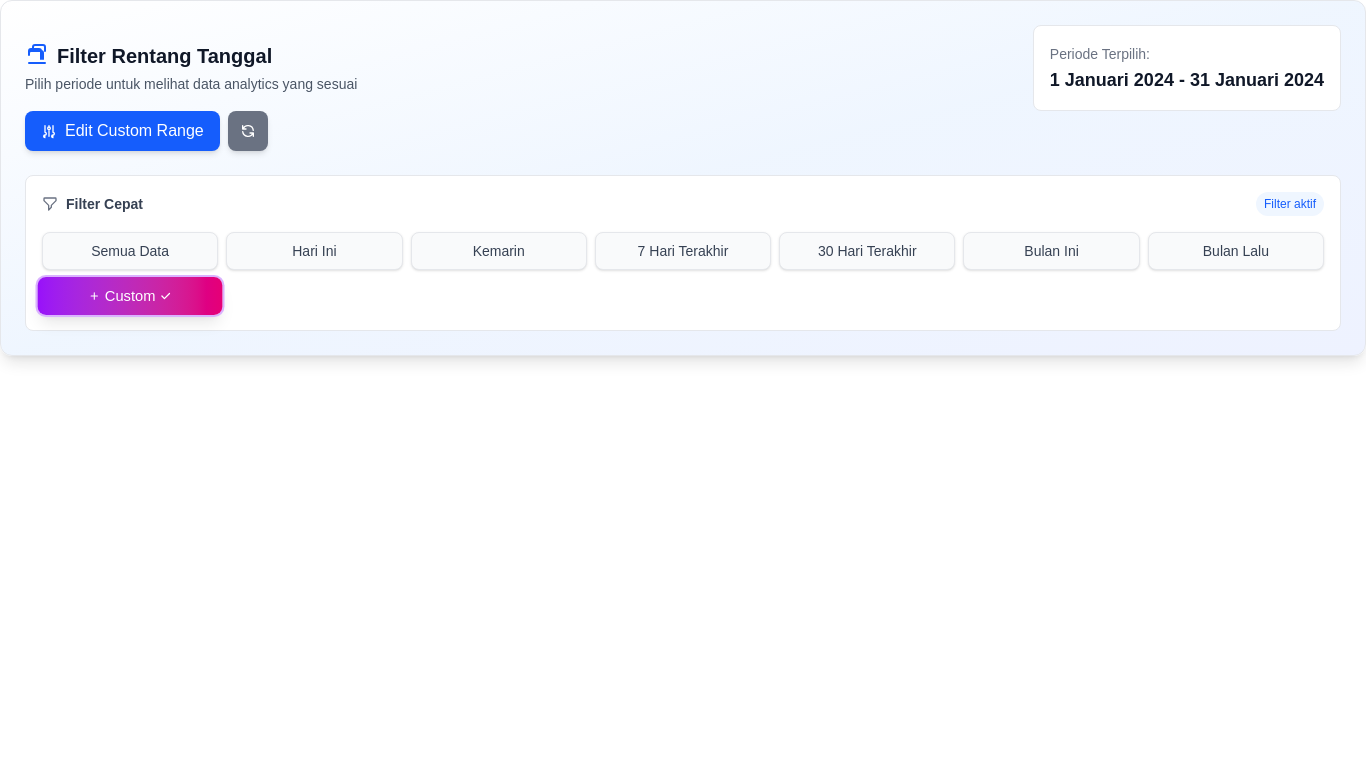
it: DateRangeFilter Component › shows preview when both dates are selected in custom picker
# Open modal
Click the button "Custom": (130, 296) [38, 277, 223, 315]
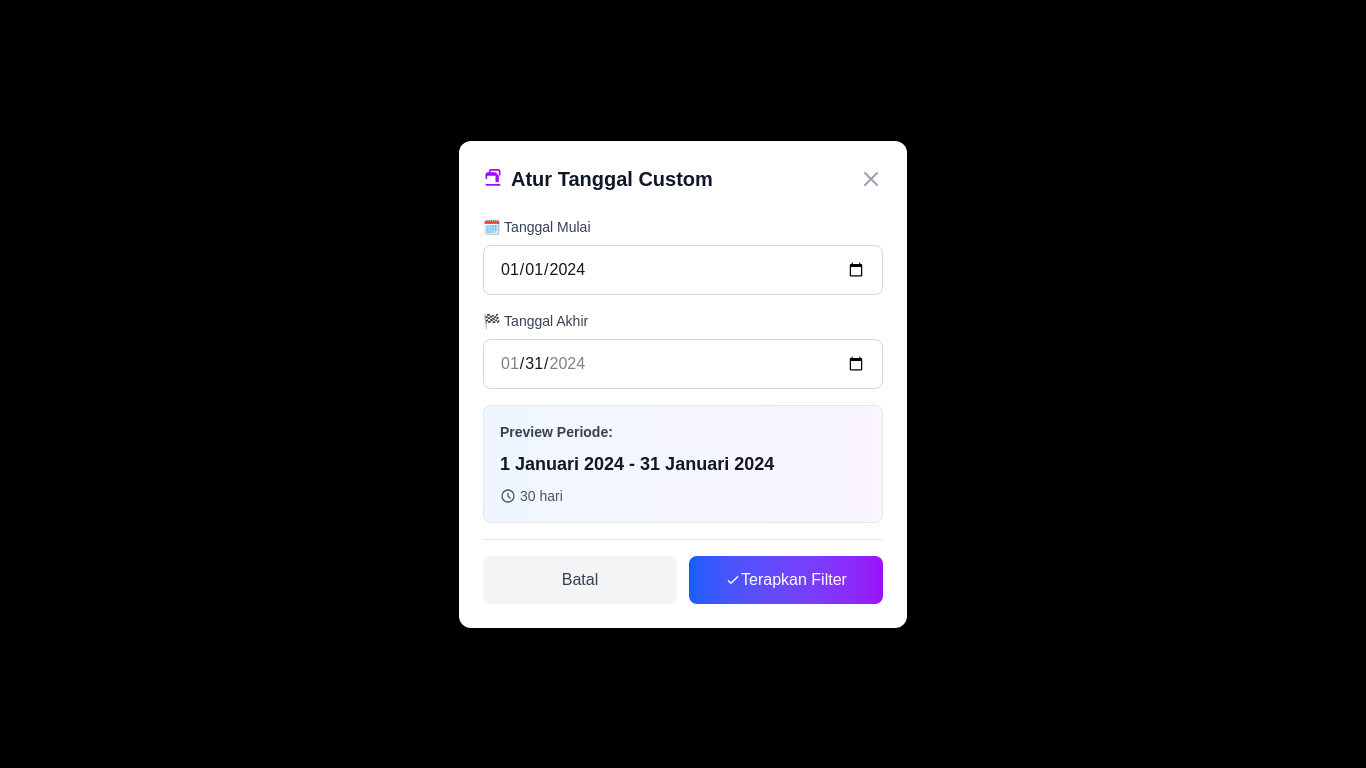
Result: the heading "Preview Periode:" is shown at [500, 424, 613, 440]
